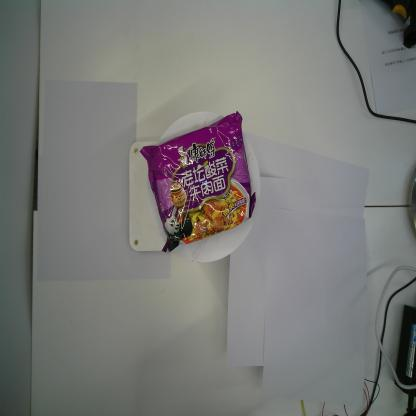Instant Noodles: (139, 111, 256, 254)
